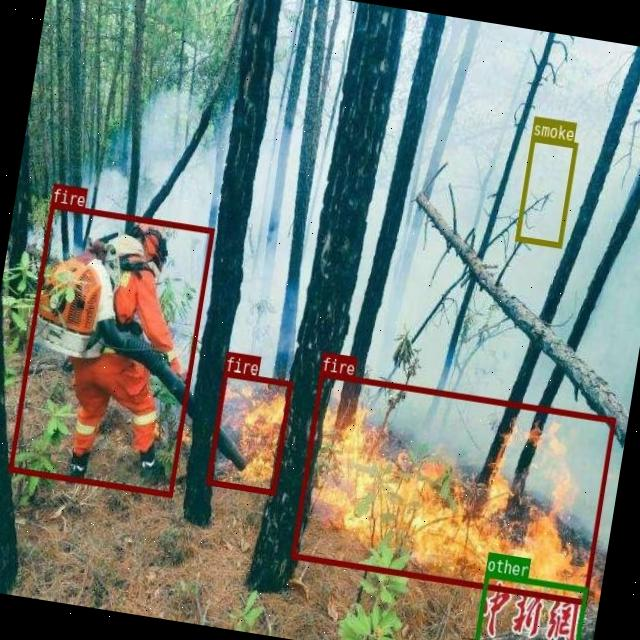fire: (290, 371, 616, 603), (8, 202, 214, 497), (206, 370, 293, 494)
smoke: (515, 136, 578, 248)
